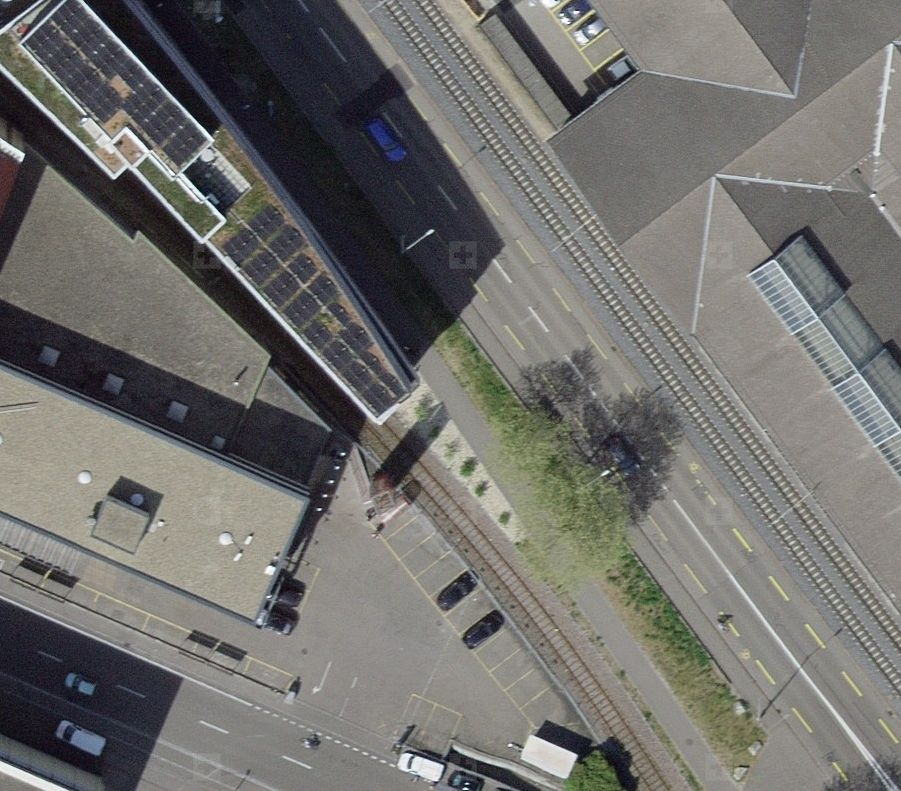solar: (222, 205, 404, 419), (25, 1, 206, 168)
